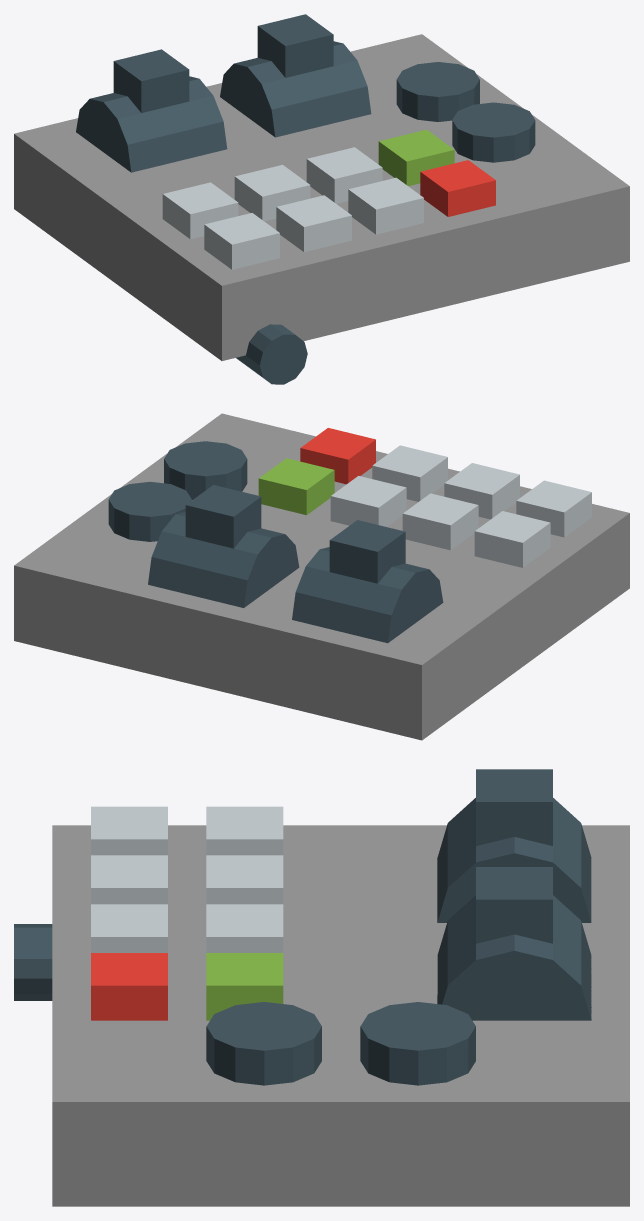
Rendered from _uttons.fbx.
3 views of the same model, one above another, from view 1: azimuth 30°, elevation 25°; view 2: azimuth 150°, elevation 25°; view 3: azimuth 270°, elevation 25° (orthographic). The views are drawn at different scales.
Visible parts, largest first — view 1: group_1405848941, group_128226319, group_1445632883, mesh_1780573564, mesh_480546860, mesh_1011640019; view 2: group_1405848941, group_1445632883, group_128226319, mesh_1780573564, mesh_480546860; view 3: group_1405848941, group_128226319, group_1445632883, mesh_480546860, mesh_1780573564, mesh_1011640019.
Boxes of the visible parts, box(x1,y1,x2,y2) form: group_1405848941: box(14, 34, 629, 360); group_128226319: box(220, 14, 371, 137); group_1445632883: box(76, 49, 227, 172); mesh_1780573564: box(452, 102, 535, 162); mesh_480546860: box(396, 62, 479, 121); mesh_1011640019: box(236, 324, 307, 384); group_1405848941: box(14, 413, 629, 740); group_1445632883: box(292, 520, 443, 643); group_128226319: box(148, 485, 299, 607); mesh_1780573564: box(164, 441, 247, 499); mesh_480546860: box(108, 481, 191, 541); group_1405848941: box(52, 806, 629, 1206); group_128226319: box(437, 867, 591, 1020); group_1445632883: box(437, 769, 591, 922); mesh_480546860: box(360, 1002, 475, 1085); mesh_1780573564: box(206, 1002, 321, 1085); mesh_1011640019: box(14, 924, 52, 1000).
Size of the model in its own units: 17 by 7 by 16.
